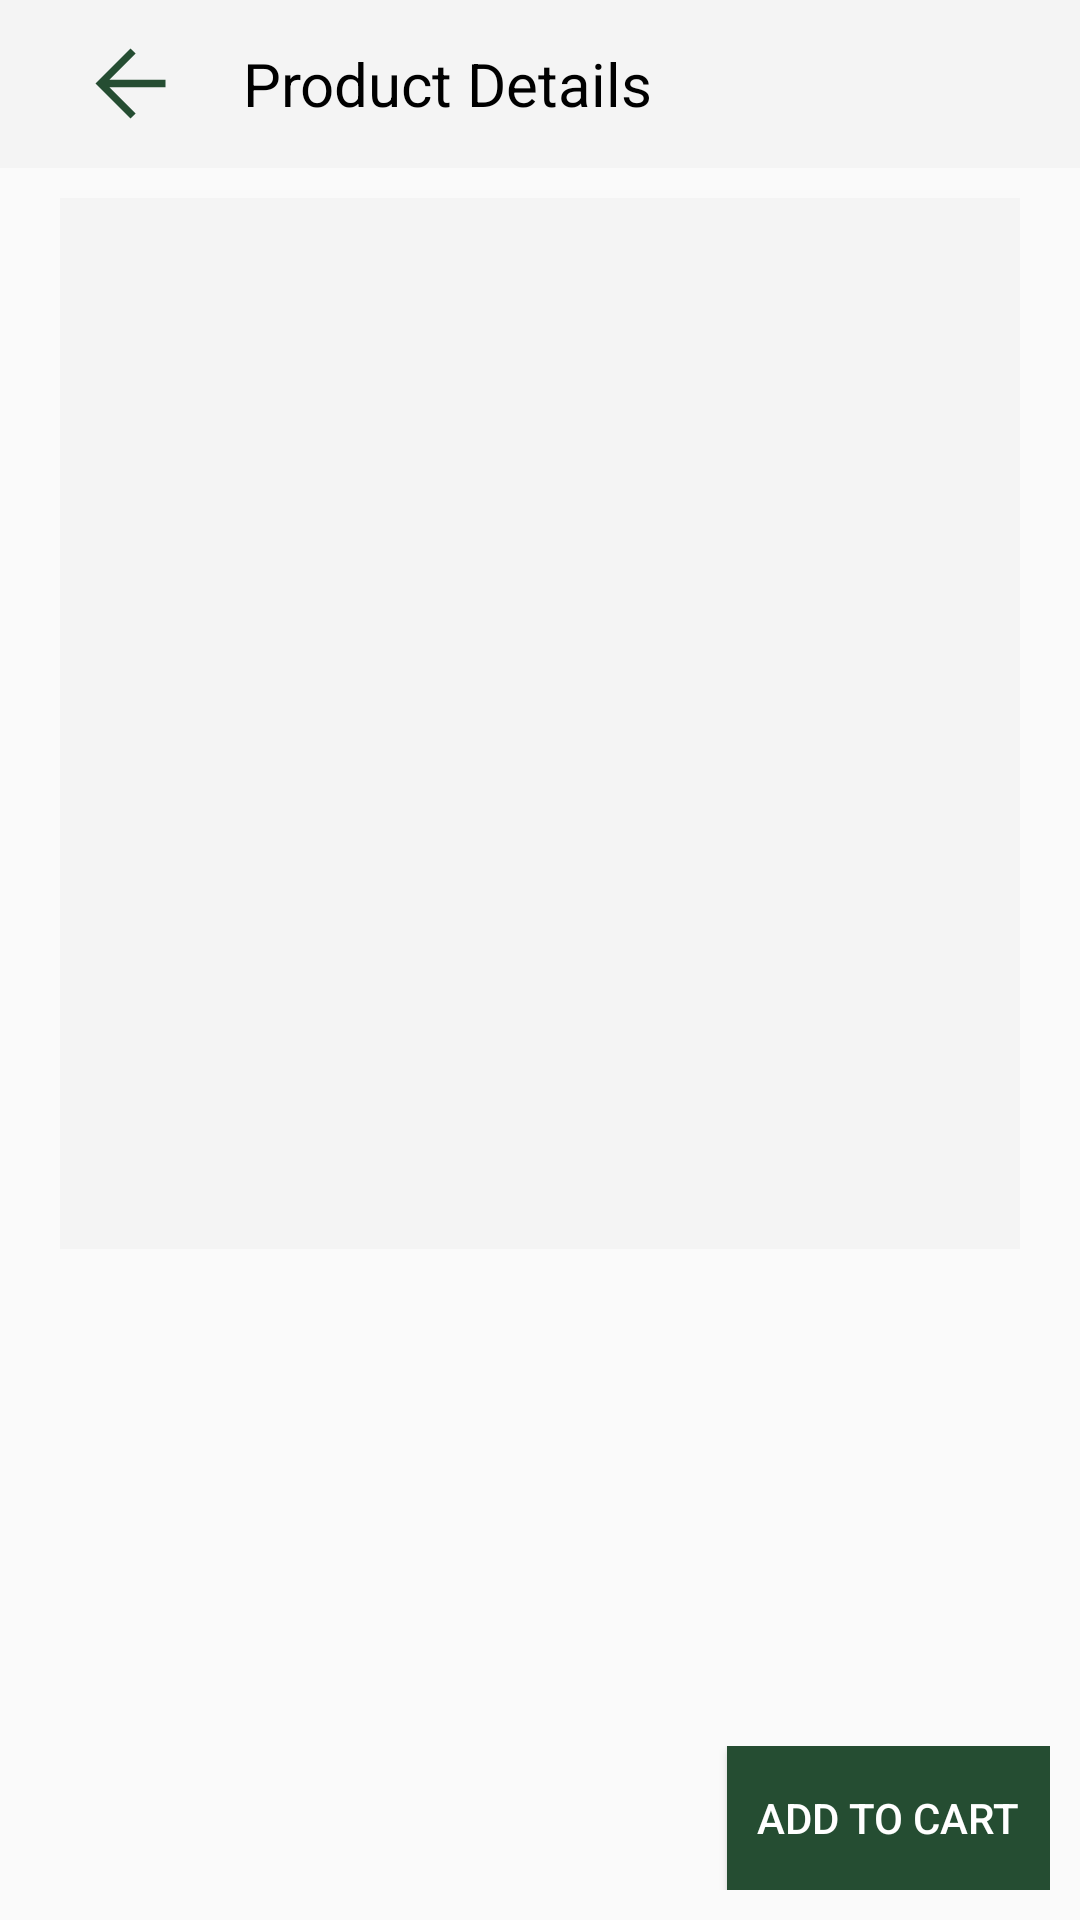

Screen size 1080*1920. Icon name, then its box in pixels as rect(x1, y1, x2, y2):
arrow back: rect(95, 48, 166, 119)
